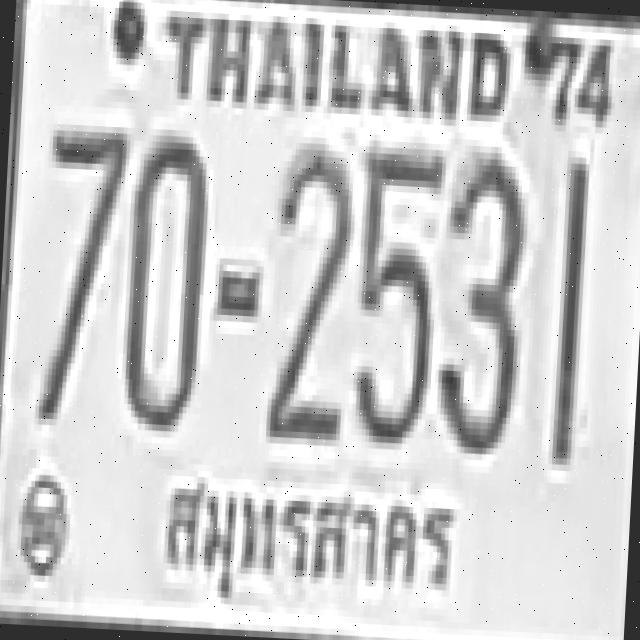0: (120, 128, 208, 426)
1: (544, 154, 586, 462), (547, 160, 588, 462)
2: (264, 139, 353, 437)
3: (433, 151, 525, 450)
5: (349, 140, 445, 439)
7: (36, 120, 128, 420)
SamutSakhon: (137, 455, 474, 630)
